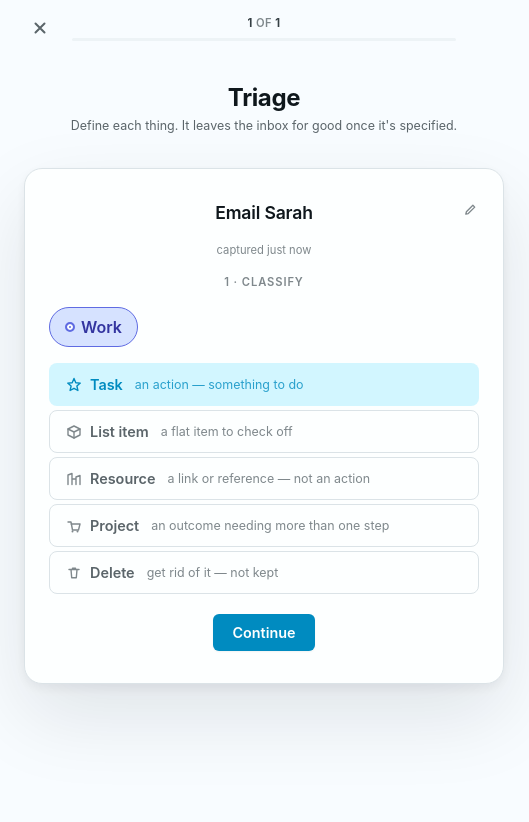
TriagePage › uses Classify number keys to choose the type before Continue
Press 2
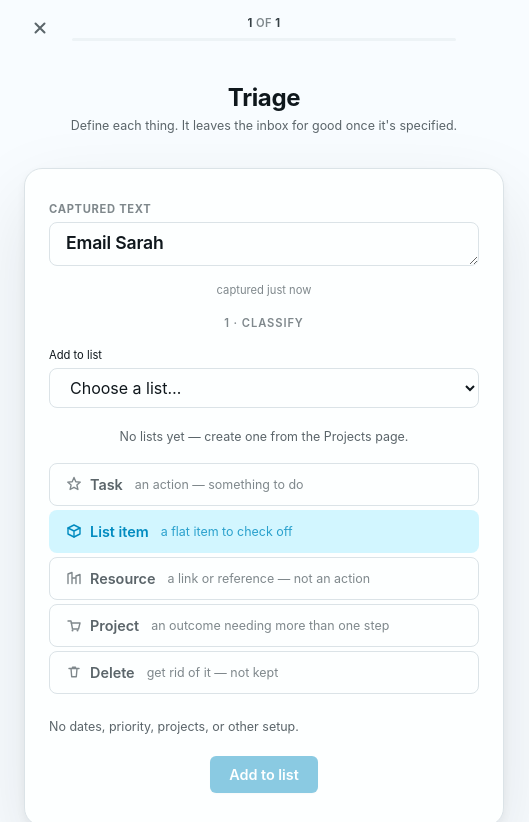
Result: the dropdown labelled "Add to list" is shown at left=49, top=368, right=479, bottom=408
Press 4
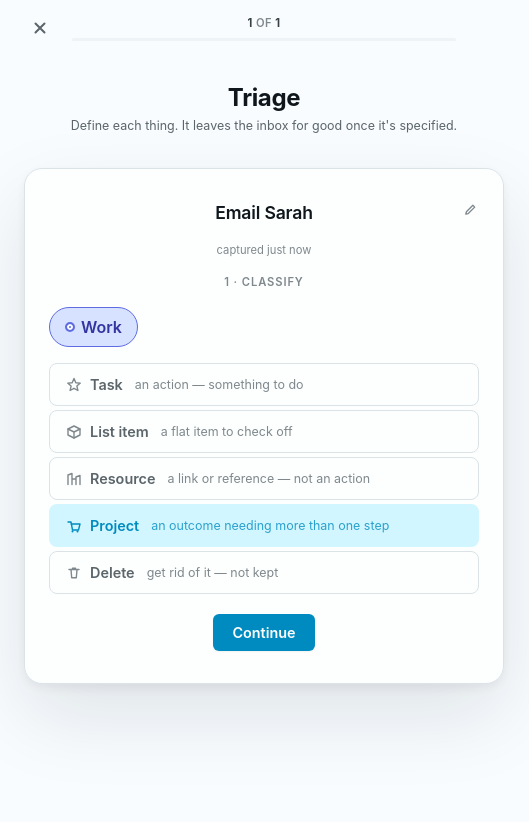
Click the button "Continue" at [264, 632], box left=213, top=614, right=315, bottom=651
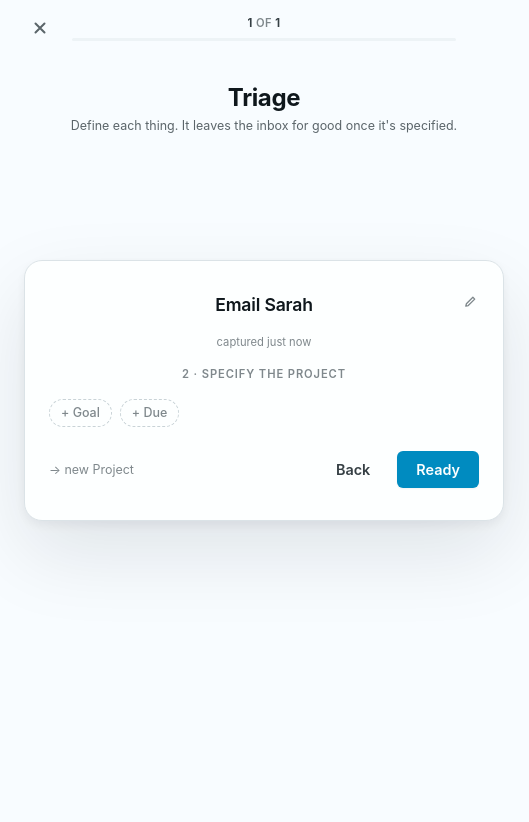
Result: the text "2 · Specify the project" is shown at left=182, top=368, right=346, bottom=382
